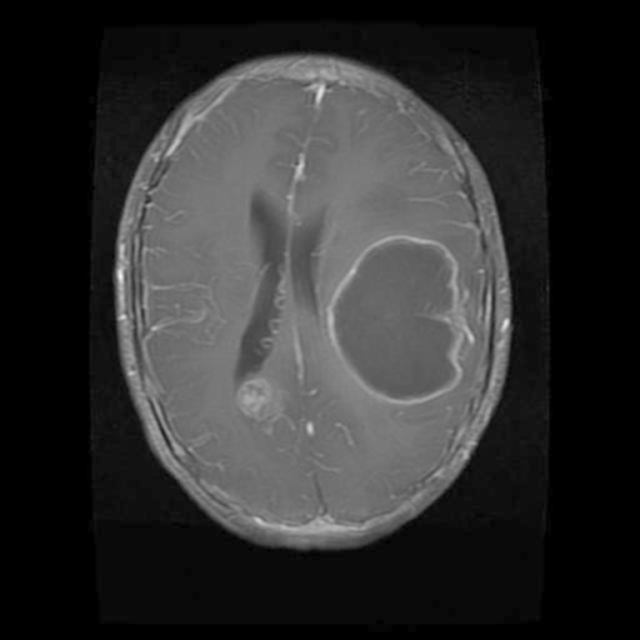pituitary tumor: (325, 234, 466, 404)
